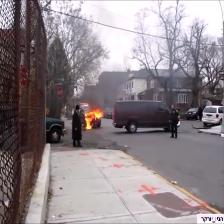fire: (80, 98, 111, 136)
